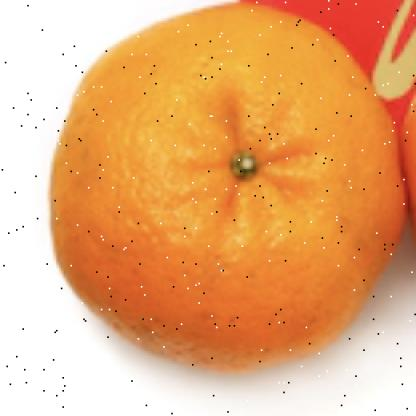orange: (30, 3, 399, 386)
